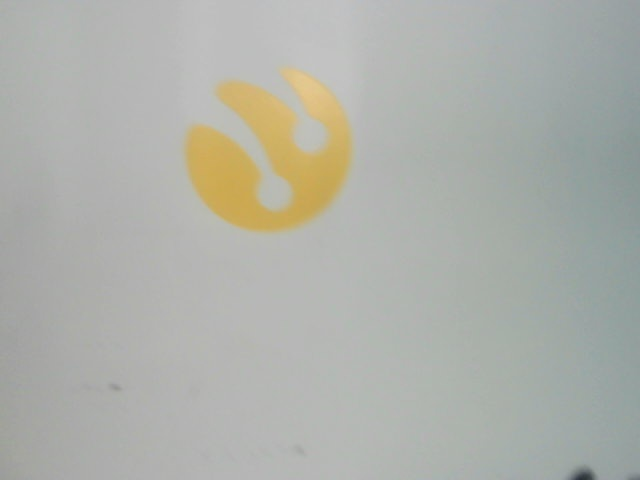AV_H3600Yellow: (179, 57, 363, 240)
